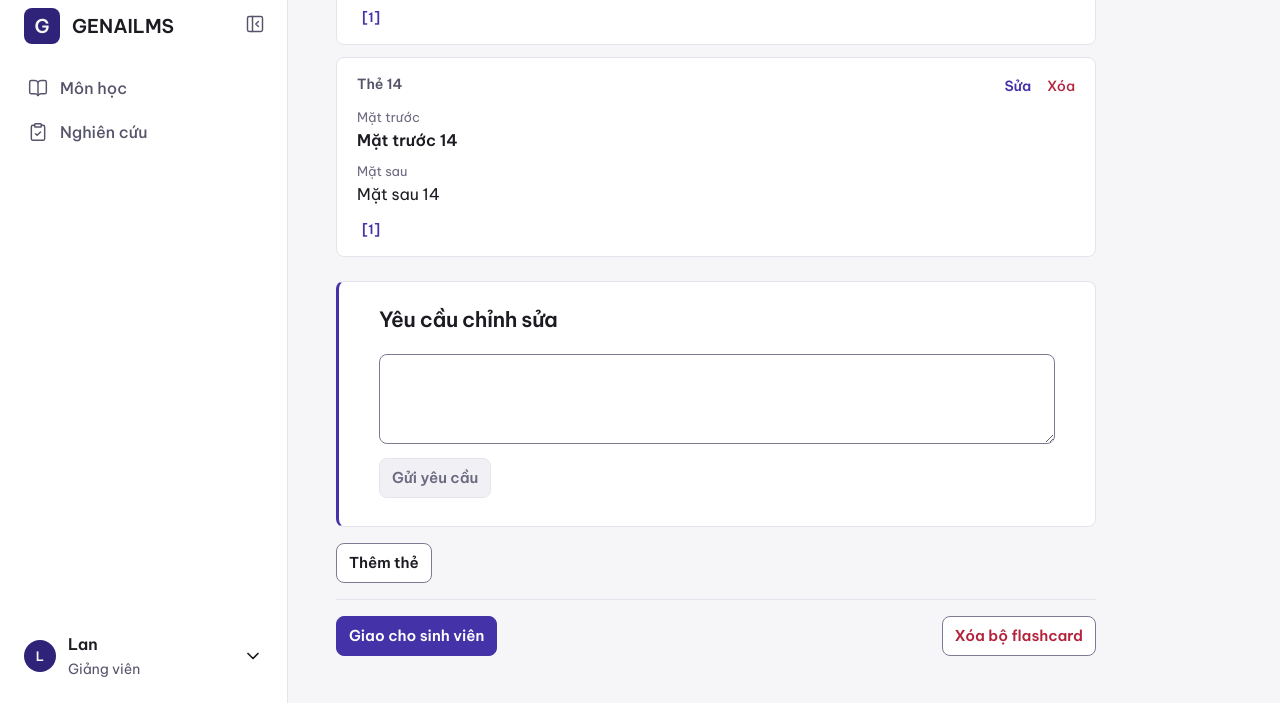
FlashcardEditorPage › adds a card, saved at once, and stops at 15
(page scrolled)
Click the button "Thêm thẻ" at coordinates (384, 563), box [336,543,432,583]
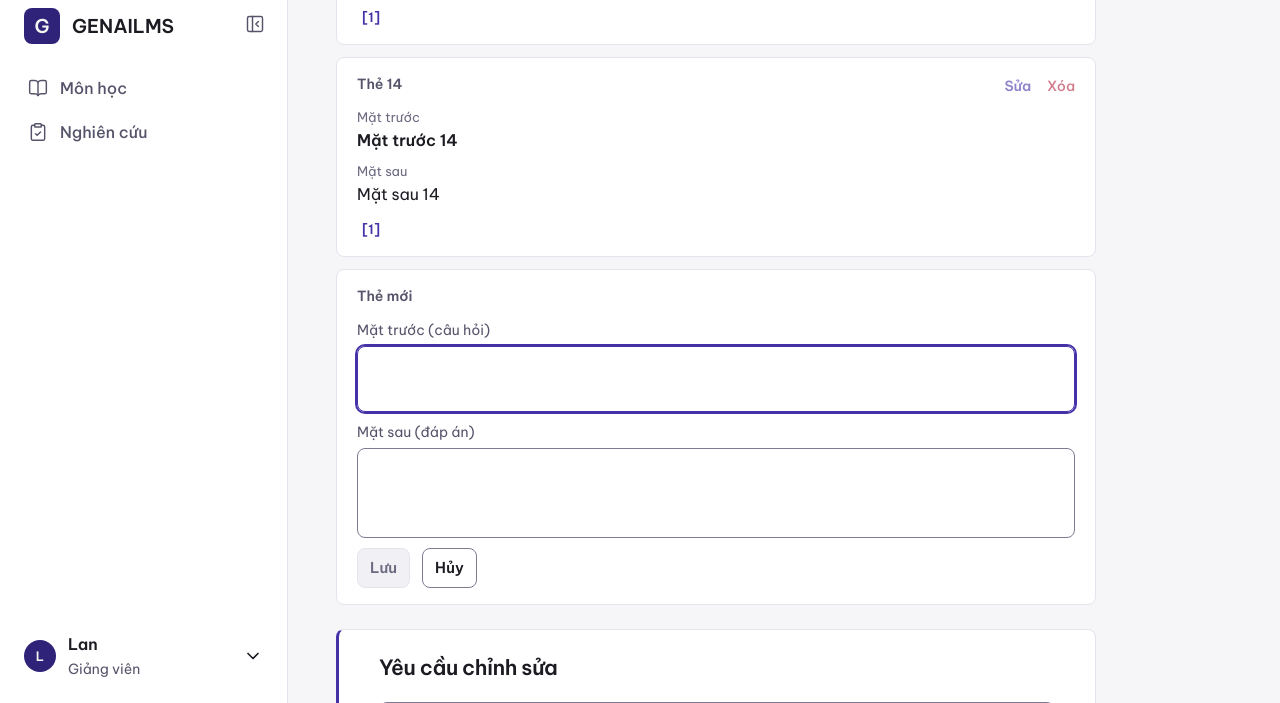
Now the button "Lưu" is disabled, box [357,548,410,588]
Type "Câu hỏi mới" into the text box named "Mặt trước thẻ 15" at coordinates (716, 379), box [357,346,1075,412]
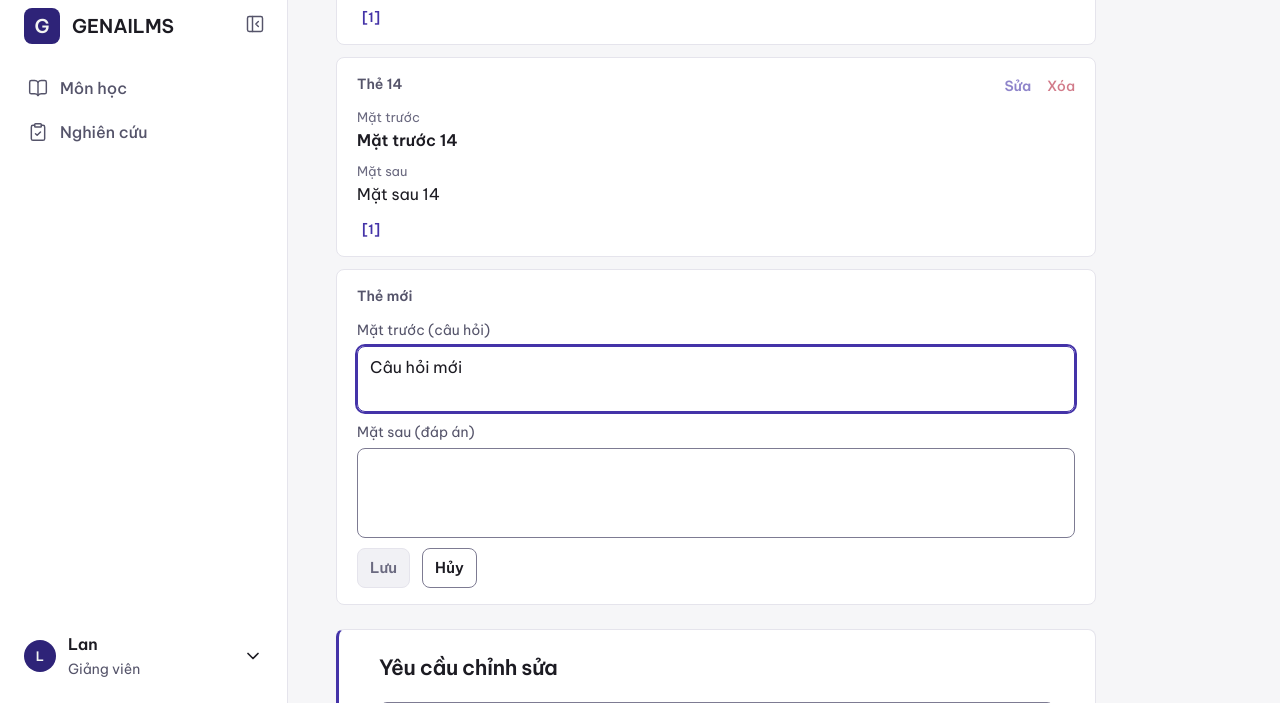
Type "Trả lời mới" into the text box named "Mặt sau thẻ 15" at coordinates (716, 493), box [357,448,1075,538]
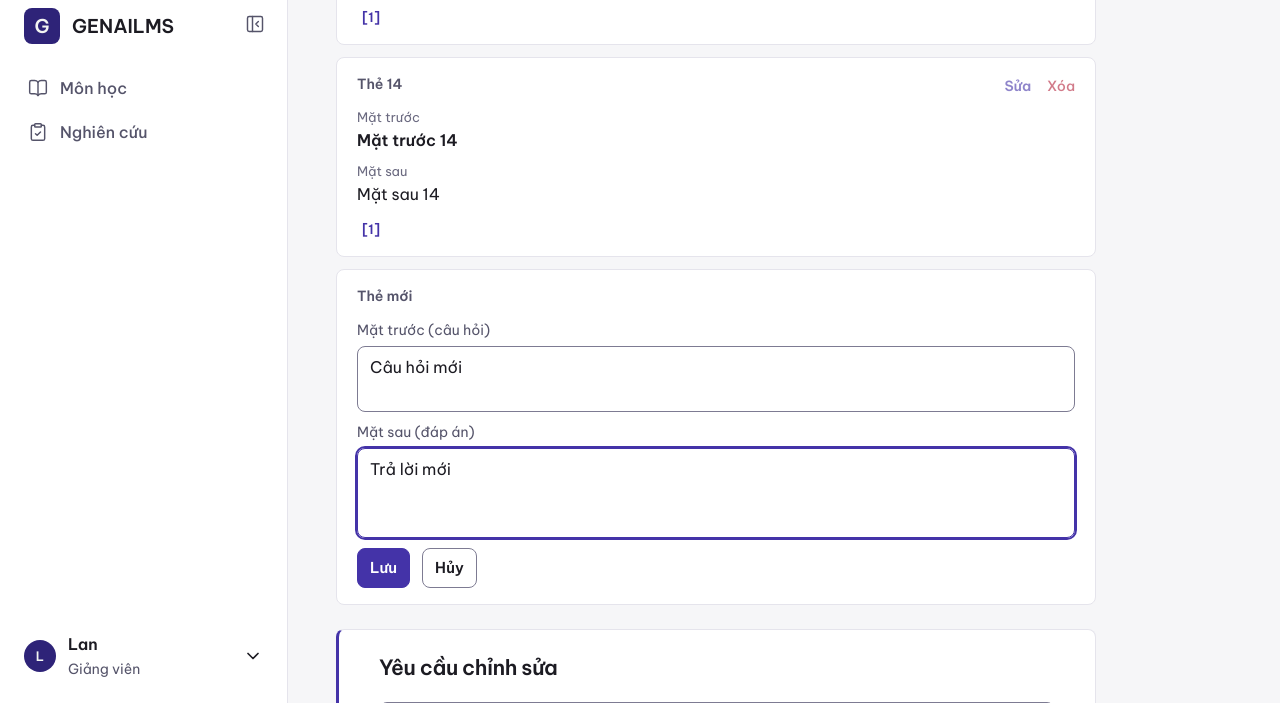
Click the button "Lưu" at coordinates (384, 568), box [357,548,410,588]
(page scrolled)
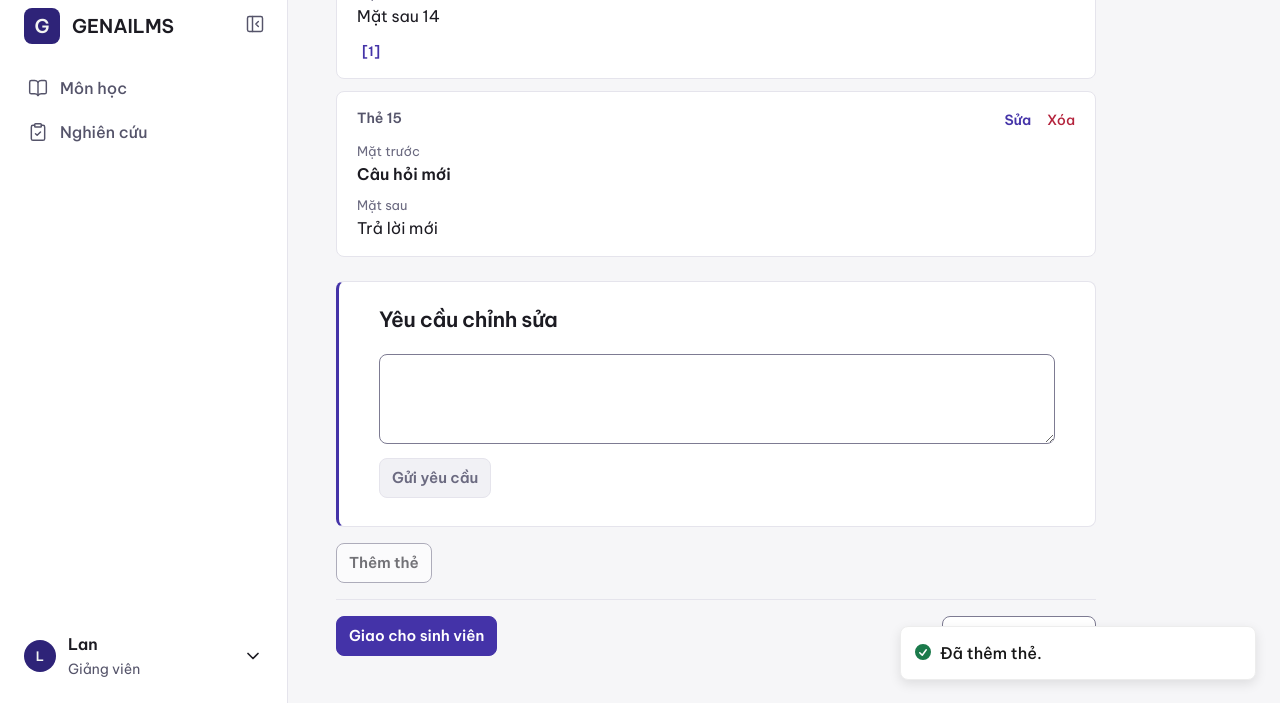
Now the button "Thêm thẻ" is disabled, box [336,543,432,583]
Now the text "Đã thêm thẻ." is shown, box [940,641,1042,665]
